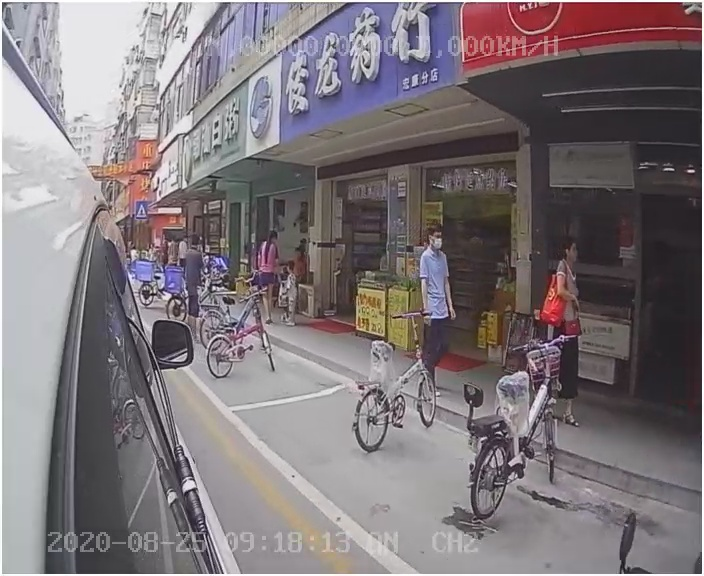person: (408, 227, 473, 381)
